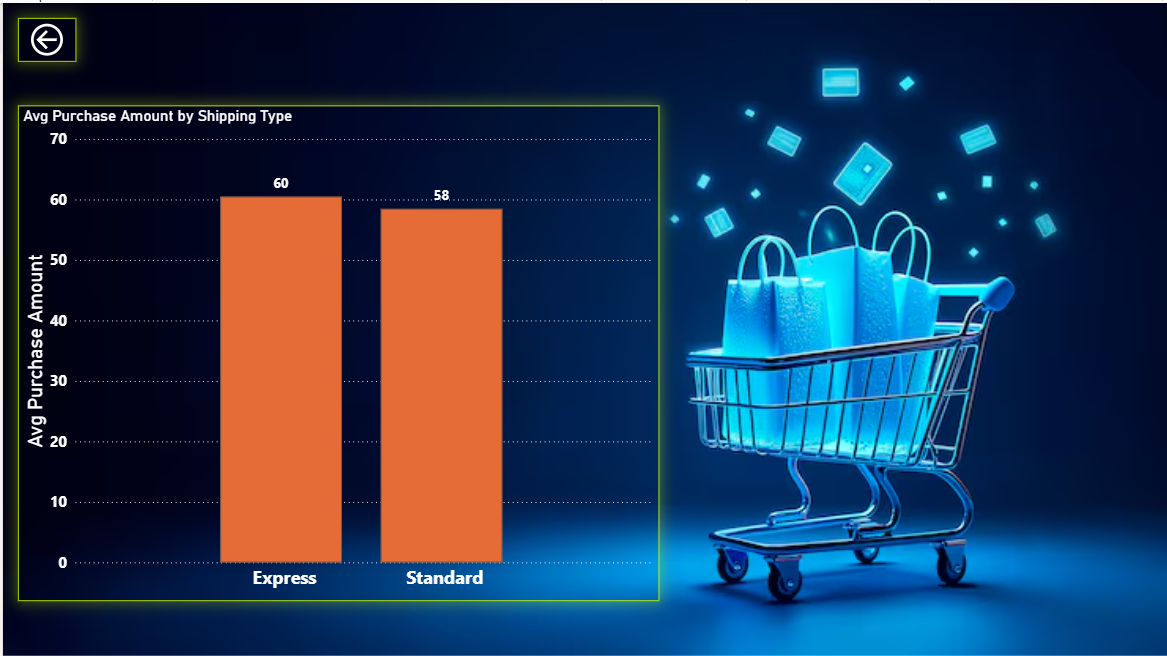

This screenshot's page, from the dashboard's own definition file:
{"tool":"powerbi","page":{"name":" Standard vs Express avg spend","canvas":[1280,720],"ordinal":4},"visuals":[{"type":"columnChart","fields":{"Category":["customer.Shipping Type"],"Y":["measure.Avg Purchase Amount"]},"box":[192,80,896,544],"z":0}]}

Visuals, with their boxes in screenshot pixels (x1, y1, x2, y2), scaled from the page's 1280x720 canvas onto the 1167x656 screenshot:
columnChart - customer.Shipping Type x measure.Avg Purchase Amount: detection(175, 73, 992, 569)
